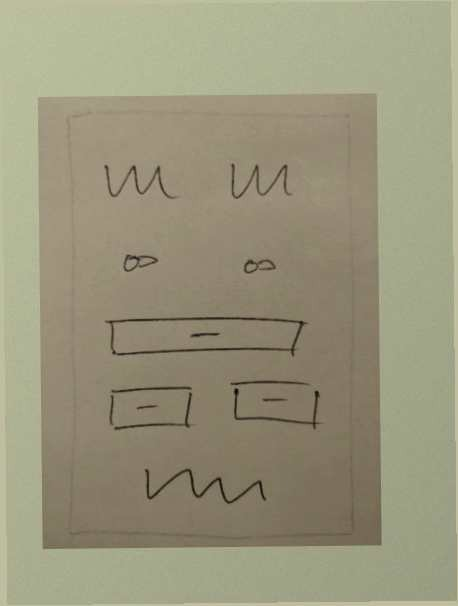button: (98, 310, 310, 368), (226, 373, 324, 436), (104, 380, 201, 437)
switch: (233, 250, 285, 285), (114, 245, 168, 278)
text: (131, 456, 272, 511), (98, 155, 184, 211), (221, 154, 296, 207)
